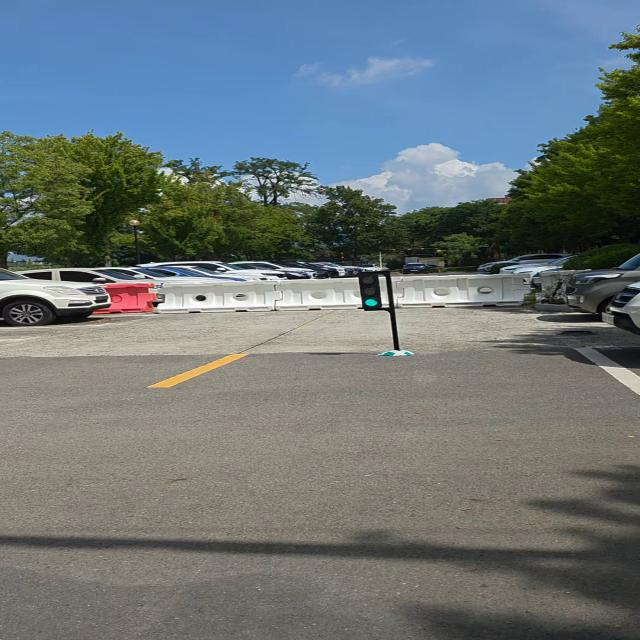green: (356, 269, 392, 313)
